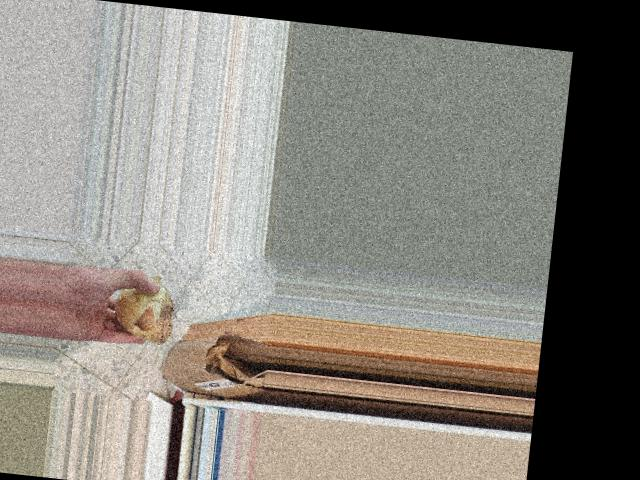onion: (109, 274, 179, 346)
